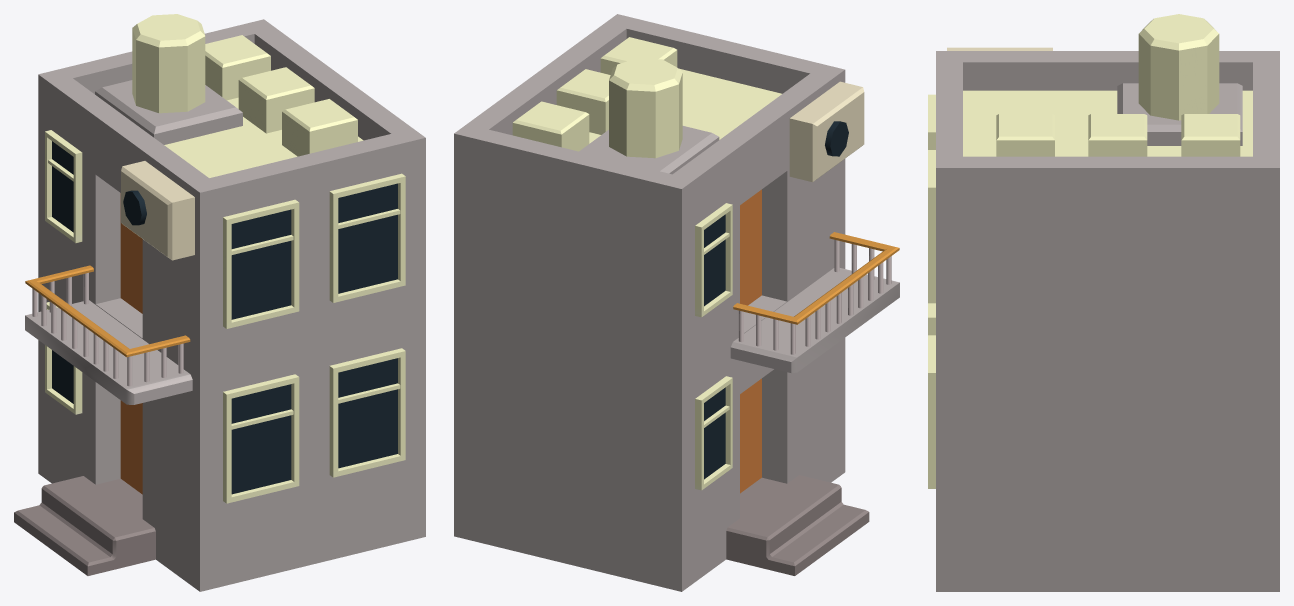
Rendered from building01 1.fbx.
3 views of the same model, side by side, from view 1: azimuth 30°, elevation 25°; view 2: azimuth 150°, elevation 25°; view 3: azimuth 270°, elevation 25° (orthographic). The views are drawn at different scales.
Parts seen in each view (by area): view 1: Building01; view 2: Building01; view 3: Building01.
Boxes of the visible parts, <box> form: Building01: <box>14,14,425,591</box>; Building01: <box>454,14,899,591</box>; Building01: <box>928,14,1279,591</box>.
Bounding box in the file's own units: 150 × 147 × 225.
